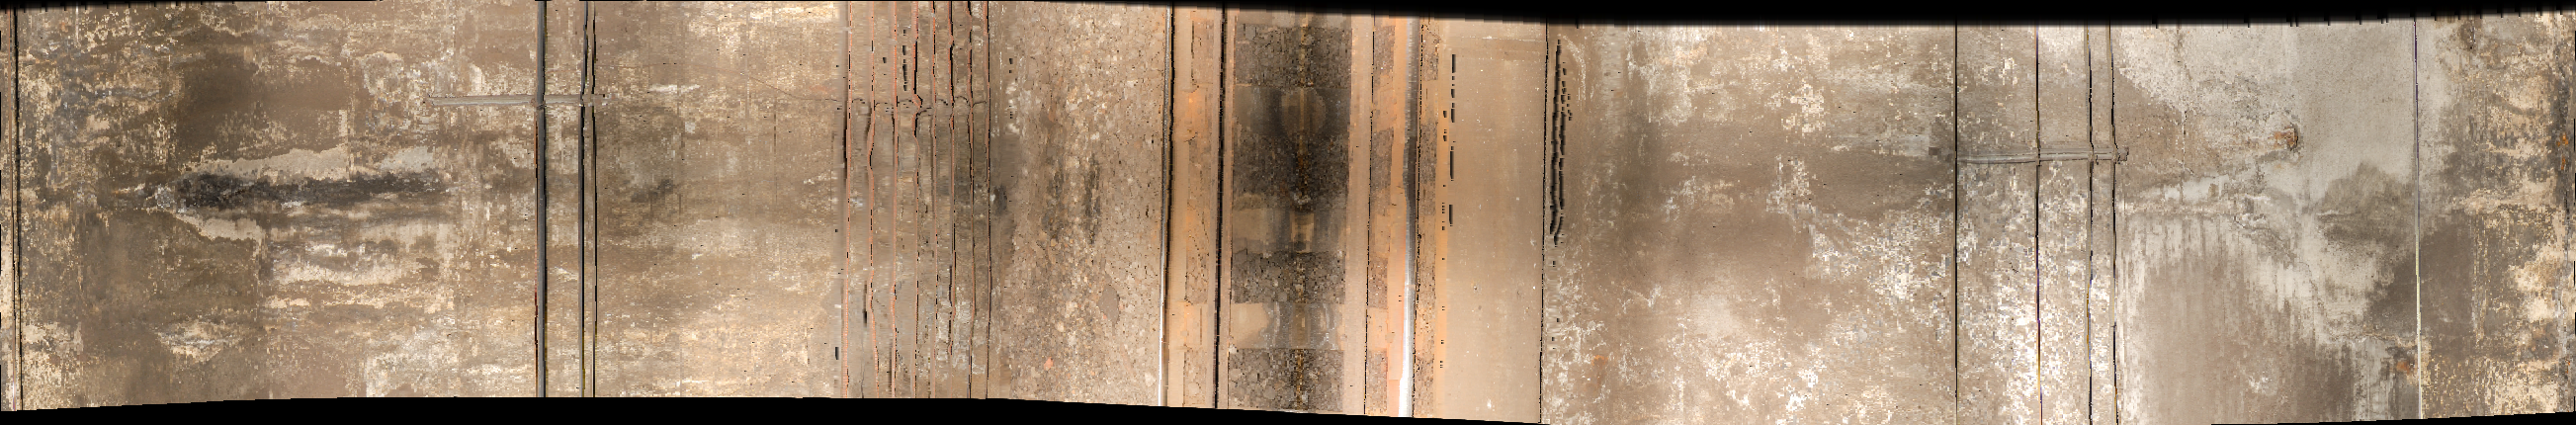pipes: (835, 7, 1004, 425), (2026, 33, 2136, 425), (527, 2, 609, 425), (1940, 31, 1971, 425)
tracks: (1160, 8, 1447, 425)
